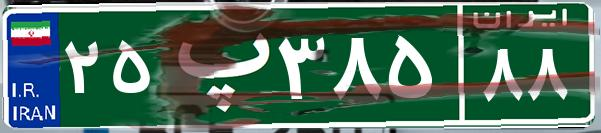2: (57, 26, 110, 107)
3: (273, 28, 330, 110)
5: (385, 28, 445, 110), (110, 28, 158, 105)
8: (330, 28, 385, 110), (475, 38, 525, 113), (525, 38, 570, 115)
پ: (158, 15, 273, 115)
